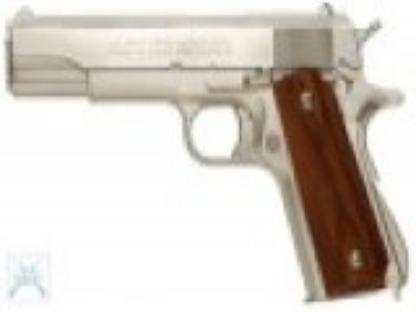pistol: (2, 5, 406, 298)
